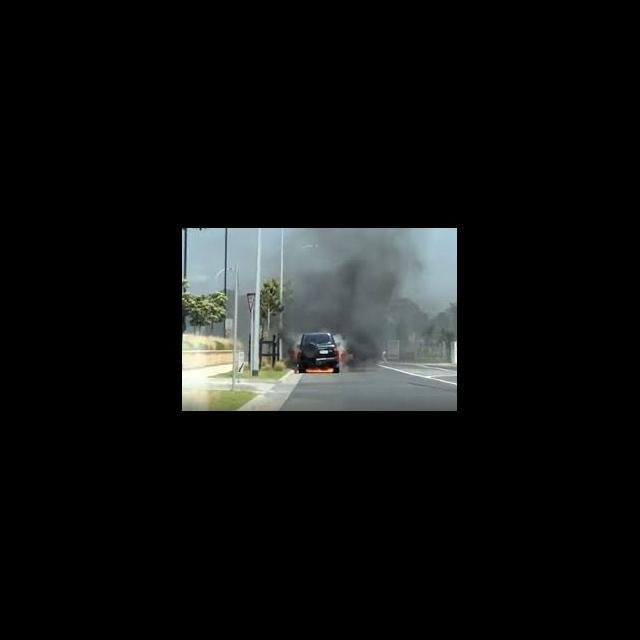Fire: (291, 348, 301, 374), (306, 368, 334, 374), (339, 348, 345, 362)
Smoke: (289, 238, 424, 332), (348, 333, 386, 372)
